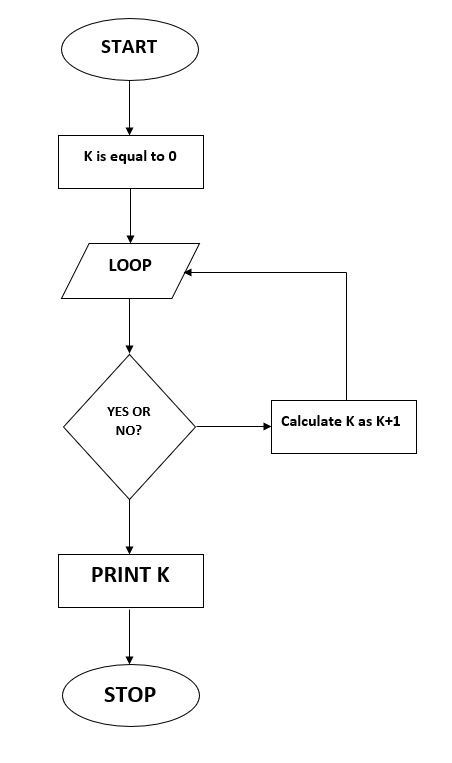arrow: (181, 266, 350, 402), (191, 420, 271, 434), (121, 608, 137, 667), (123, 294, 137, 359), (123, 77, 137, 137), (124, 184, 138, 244), (123, 497, 137, 556)
data: (57, 240, 203, 304)
decision: (62, 353, 195, 501)
process: (54, 551, 207, 612), (268, 397, 420, 458), (55, 132, 206, 191)
terminator: (56, 658, 207, 732), (57, 15, 204, 82)
text: (87, 562, 173, 588), (280, 413, 403, 430), (82, 147, 182, 167), (105, 401, 153, 437), (100, 681, 160, 706), (96, 37, 160, 58), (106, 254, 154, 276)
